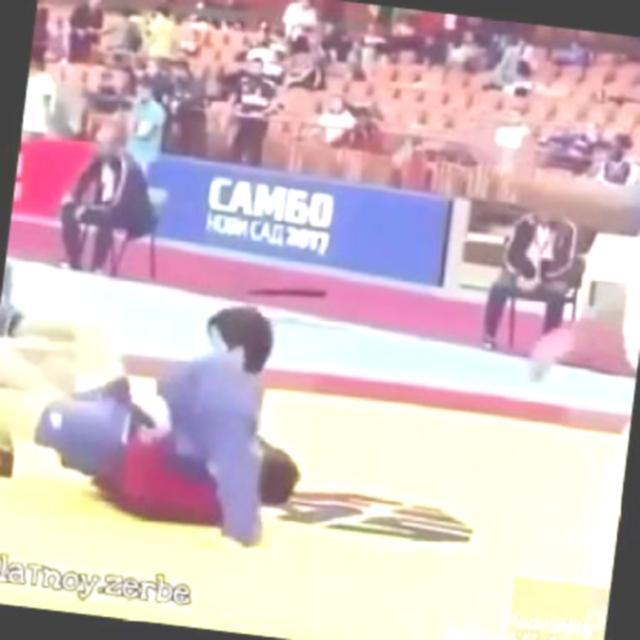fight: (0, 270, 331, 556)
